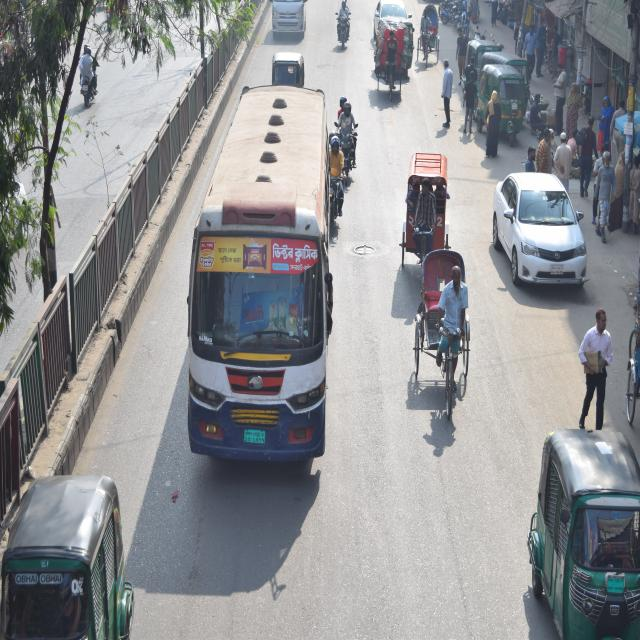bus: (185, 82, 328, 482)
car: (490, 157, 597, 300)
microbus: (266, 0, 310, 49)
motorbike: (69, 49, 101, 117), (325, 160, 344, 239), (338, 122, 358, 179), (335, 1, 351, 56)
